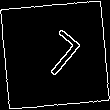L_SW: (27, 26, 83, 84)
